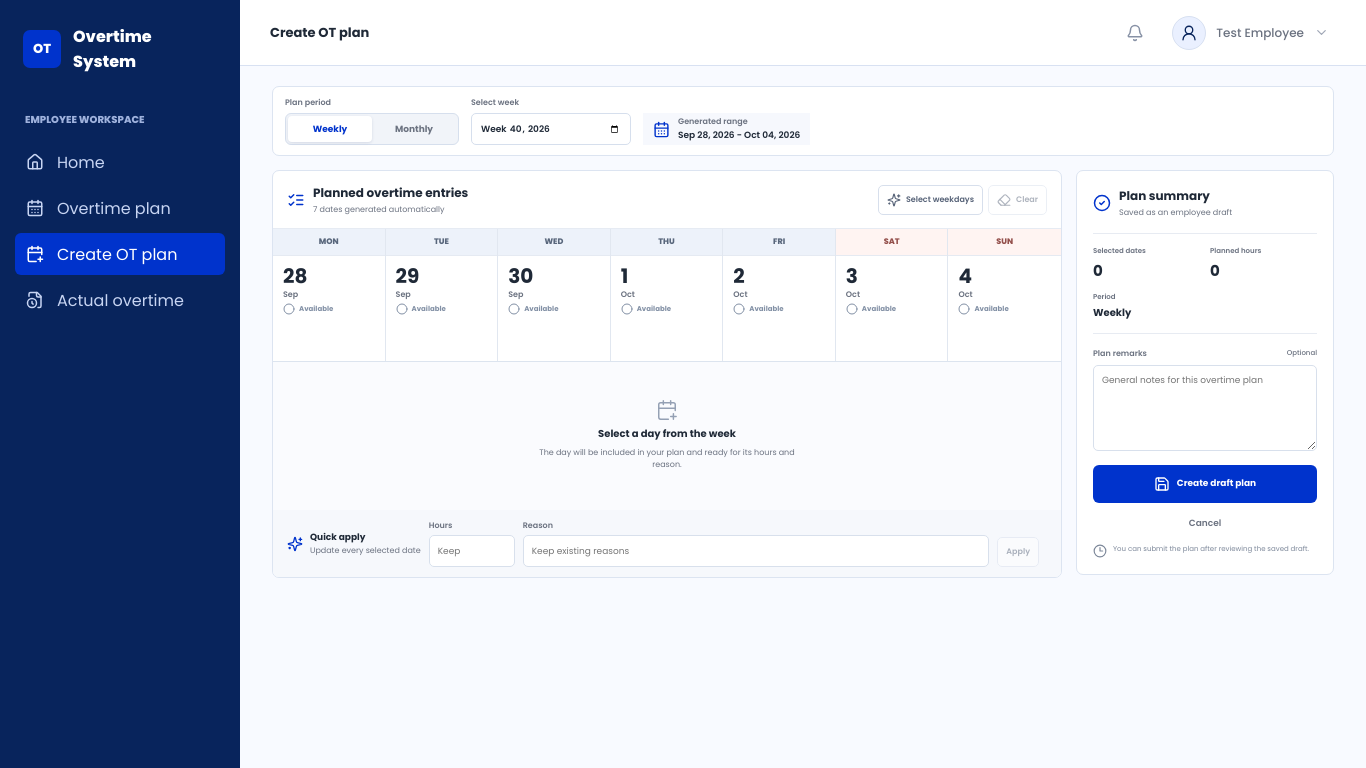
Scenario: role-based route protection › creates a weekly draft from the generated date template
The image size is (1366, 768).
Expected: the text "Plan period" is shown, x1=285 y1=97 x2=331 y2=108
Expected: the link "Back to overtime plans" is not shown
Replace the text in the field labelled "Select week" with "2026-W34" at (551, 129), box x1=471 y1=113 x2=631 y2=145
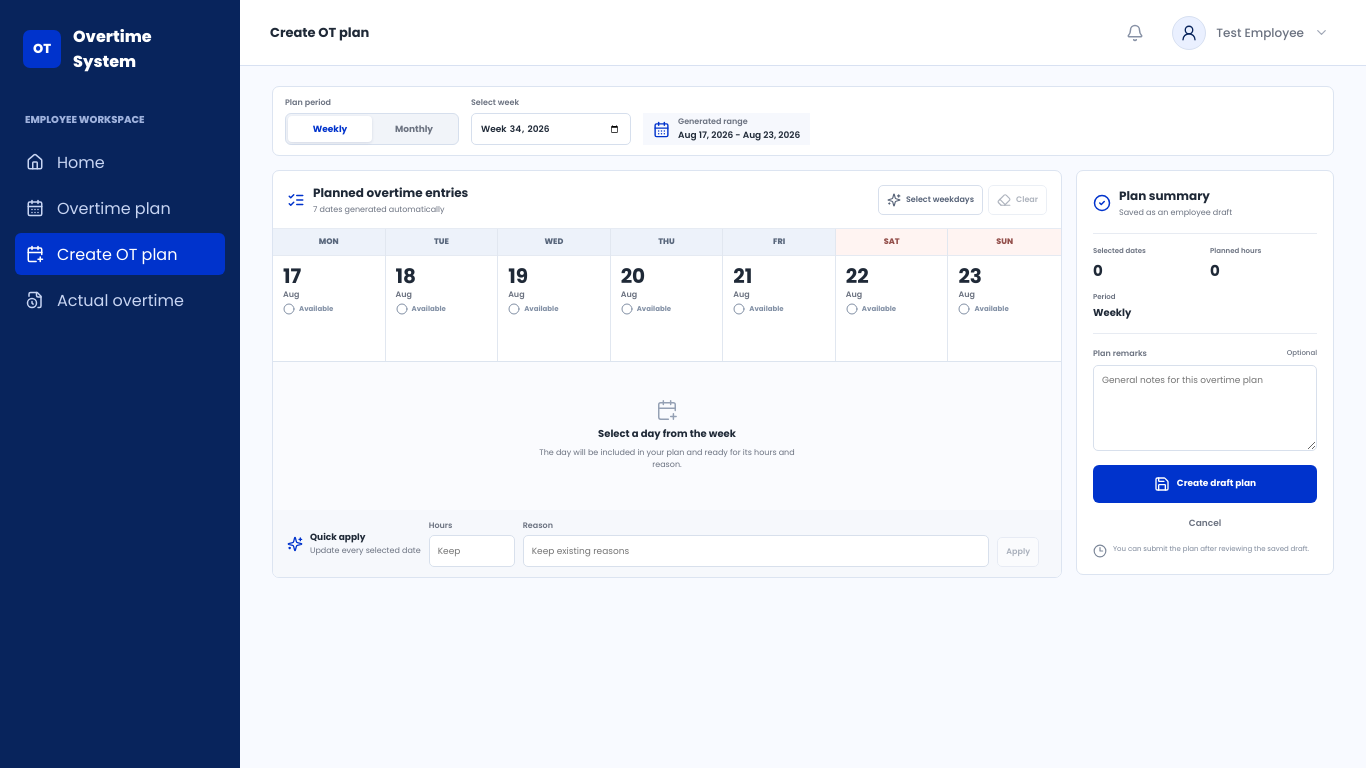
Click the button with aria-label "Include ".
click(329, 295)  # box x1=273 y1=229 x2=386 y2=361
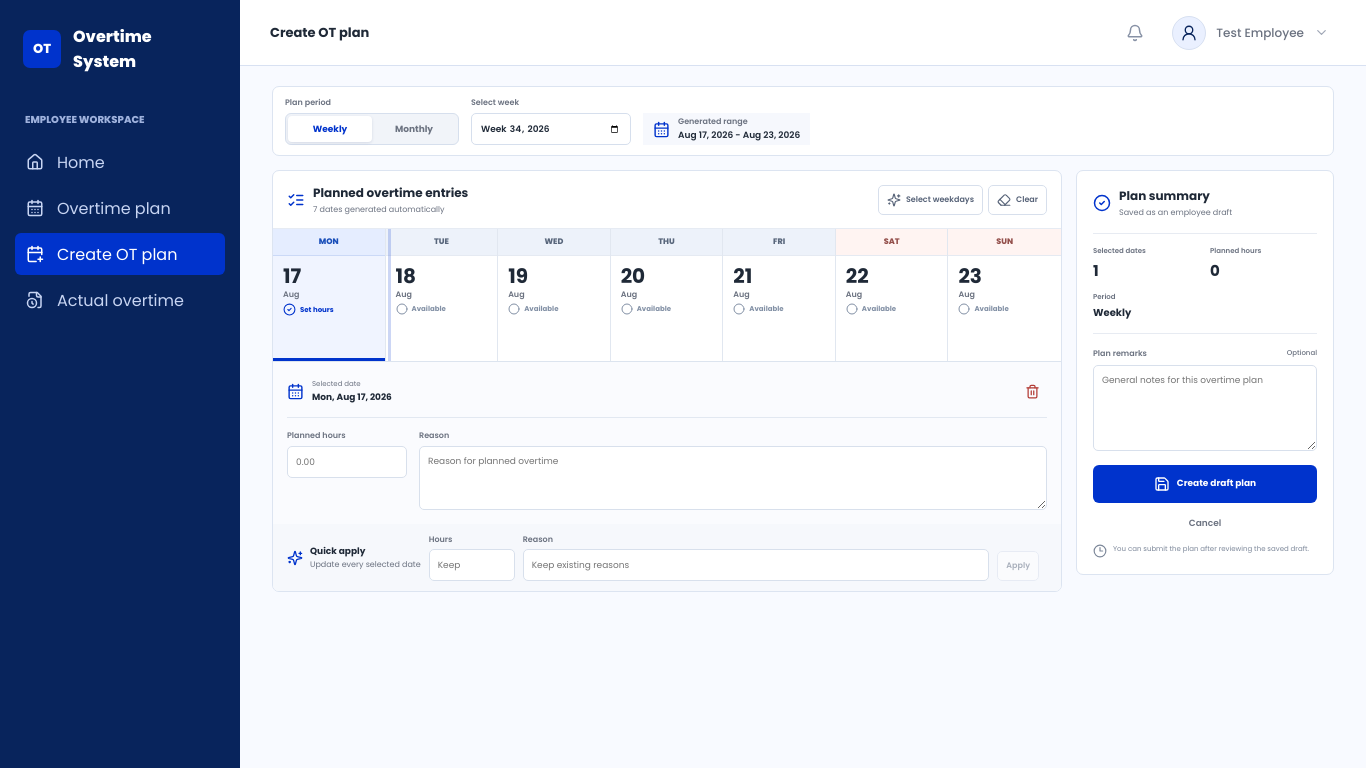
Type "2.5" into the number field labelled "Planned hours".
click(347, 462); type("2.5")  # box x1=287 y1=446 x2=407 y2=478
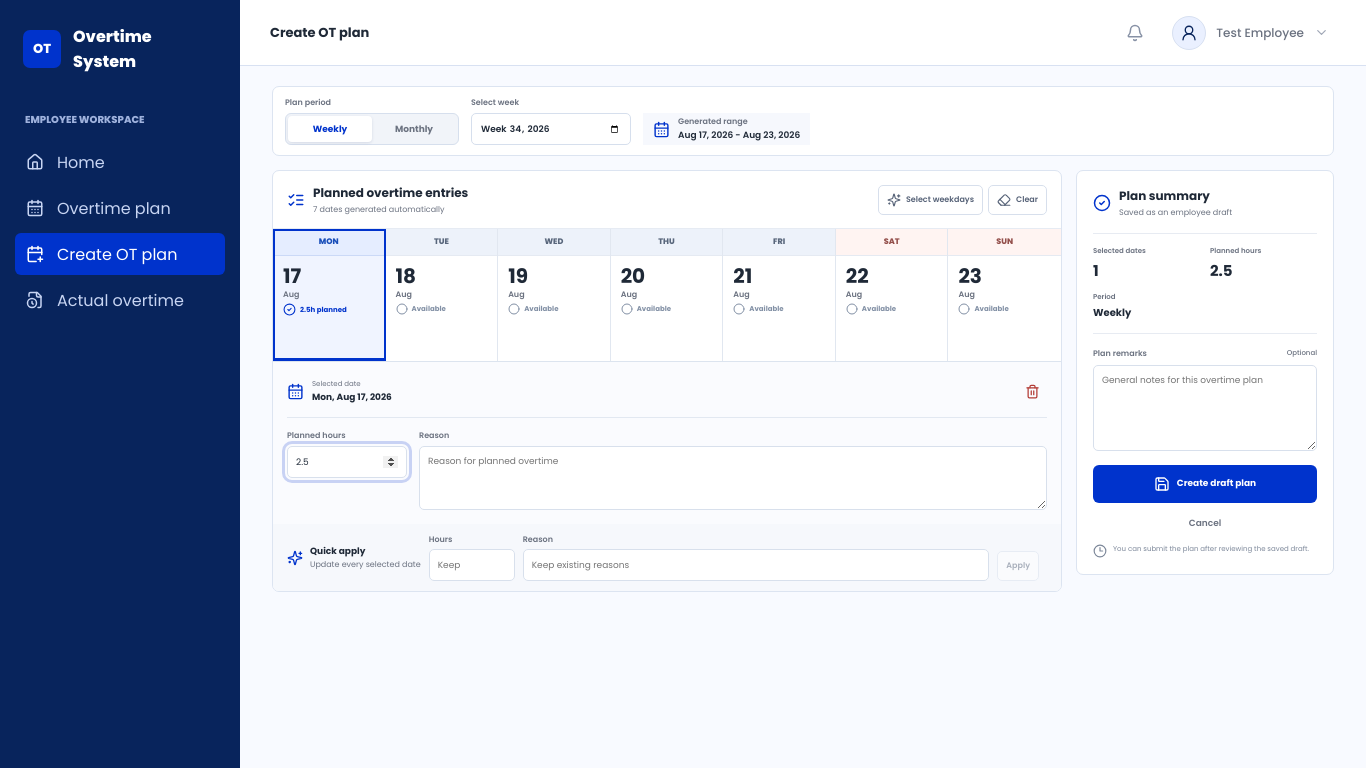
Type "Prepare customer reports." into the text box labelled "Reason".
click(733, 478); type("Prepare customer reports.")  # box x1=419 y1=446 x2=1047 y2=510
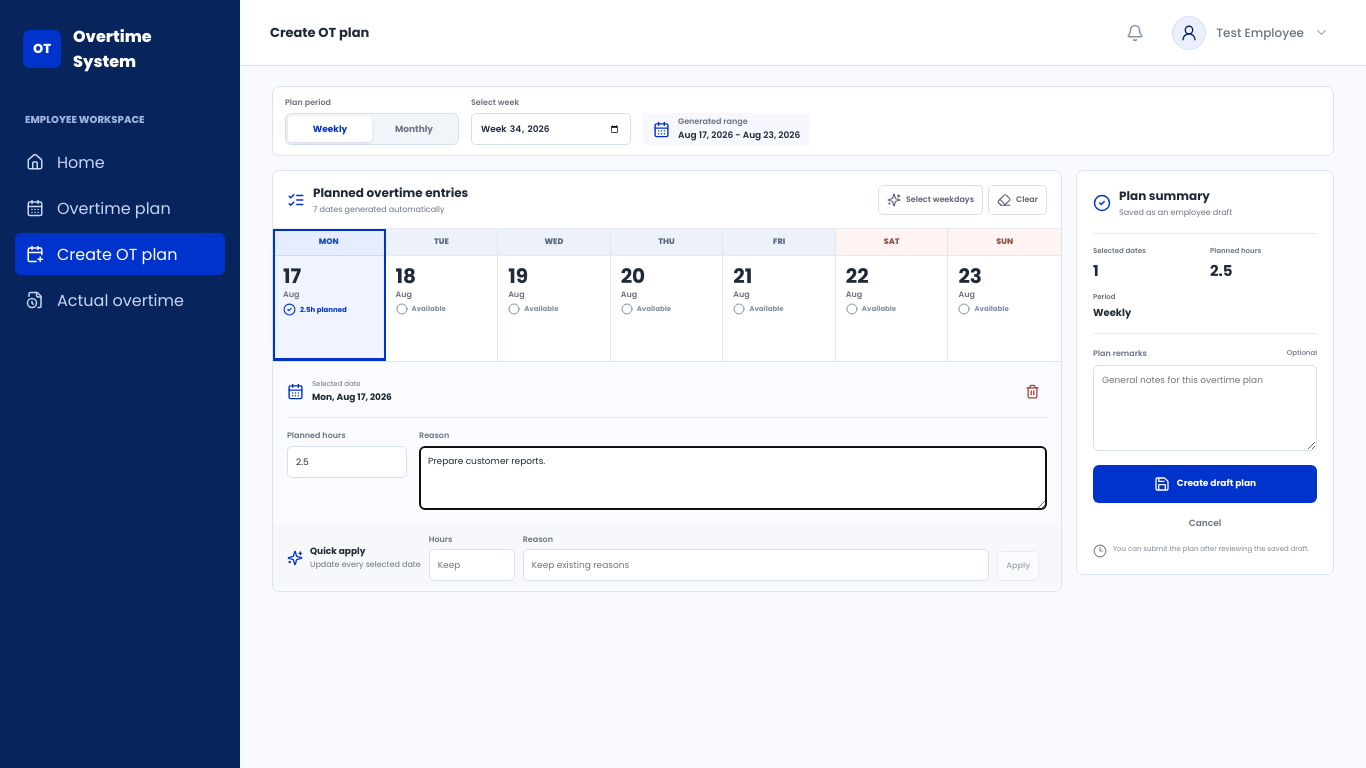
Click the button "Create draft plan".
click(1205, 484)  # box x1=1093 y1=464 x2=1317 y2=502
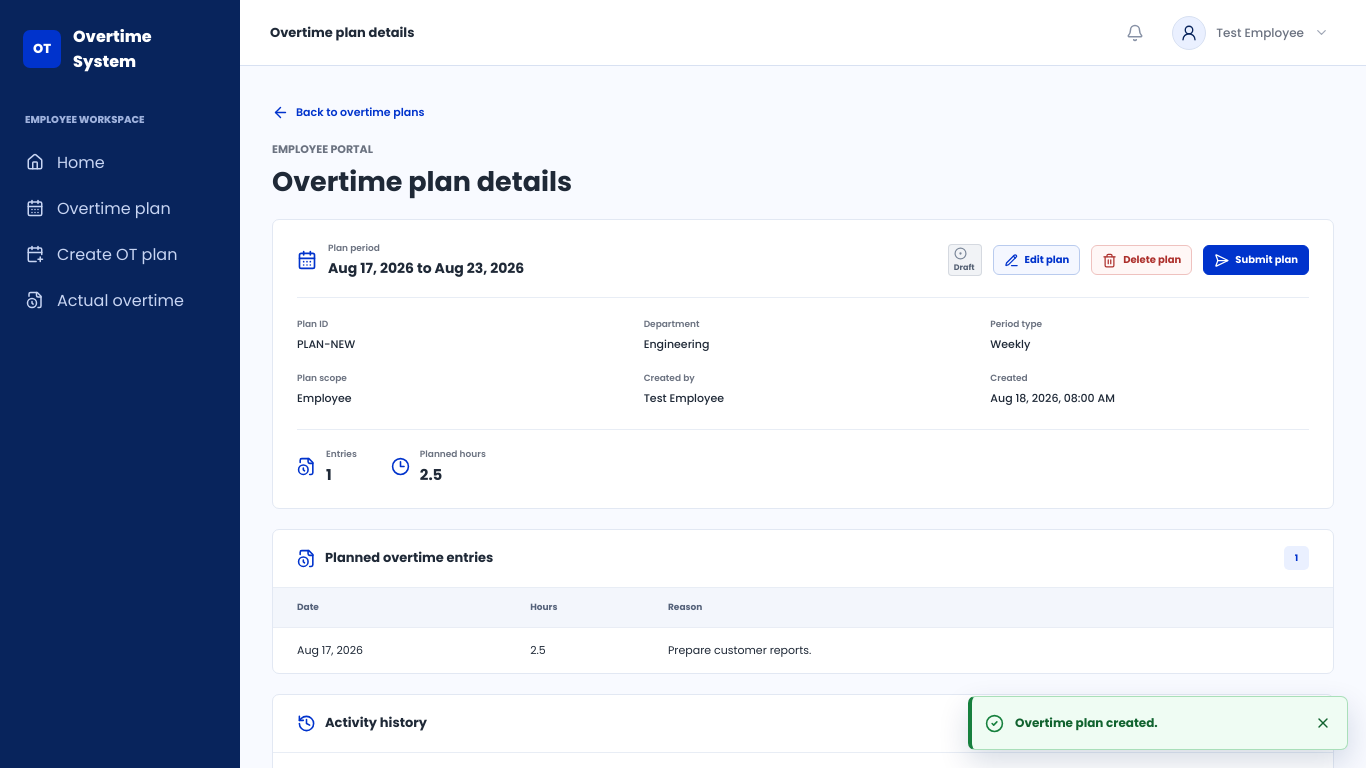
Expected: the heading "Overtime plan details" is shown, x1=272 y1=163 x2=572 y2=200
